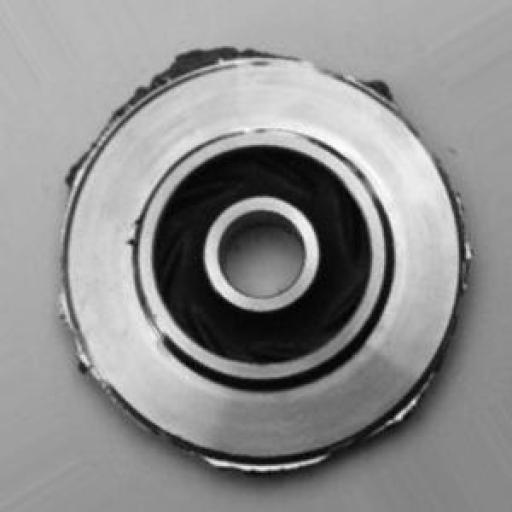defect: (32, 24, 478, 492)
